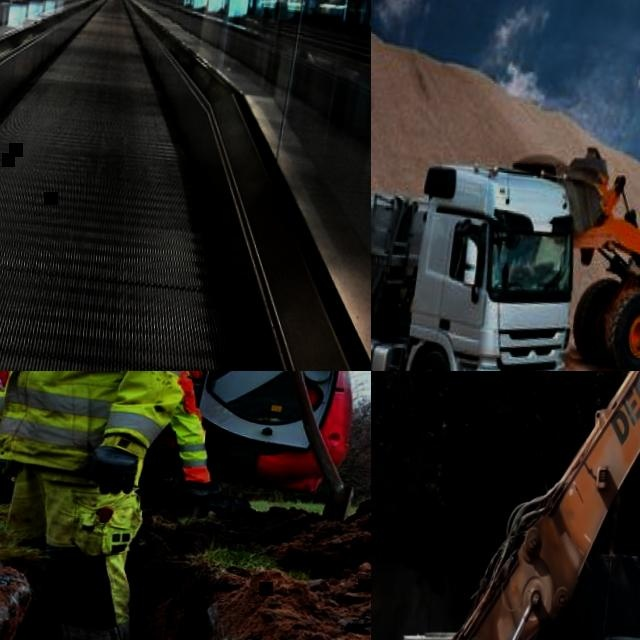Person: (0, 371, 204, 640), (156, 371, 238, 508)
Safety Vest: (0, 371, 212, 474), (0, 371, 193, 479)
machinery: (371, 371, 640, 640), (0, 371, 371, 545), (371, 127, 586, 371), (490, 132, 640, 371)
